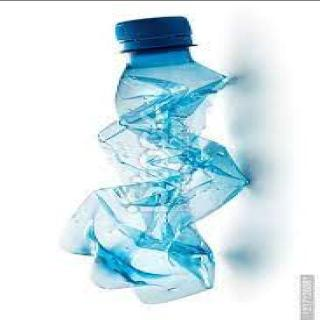Anorganik: (52, 13, 258, 306)
